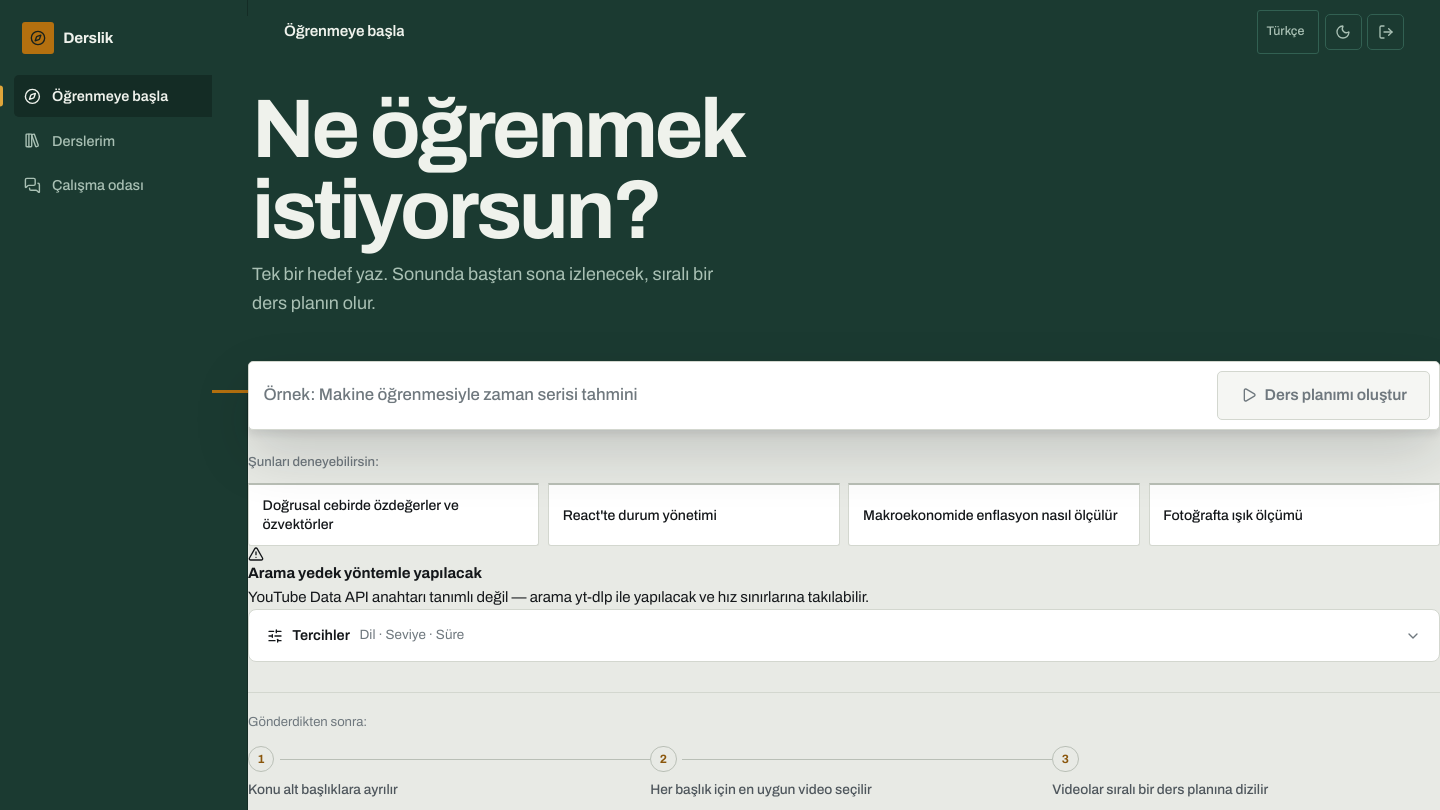
App › herhangi bir uctan 401 gelirse giris ekranina doner
Type "kuantum" into the field labelled "Ne öğrenmek istiyorsun?" at (736, 395), box left=263, top=374, right=1208, bottom=416
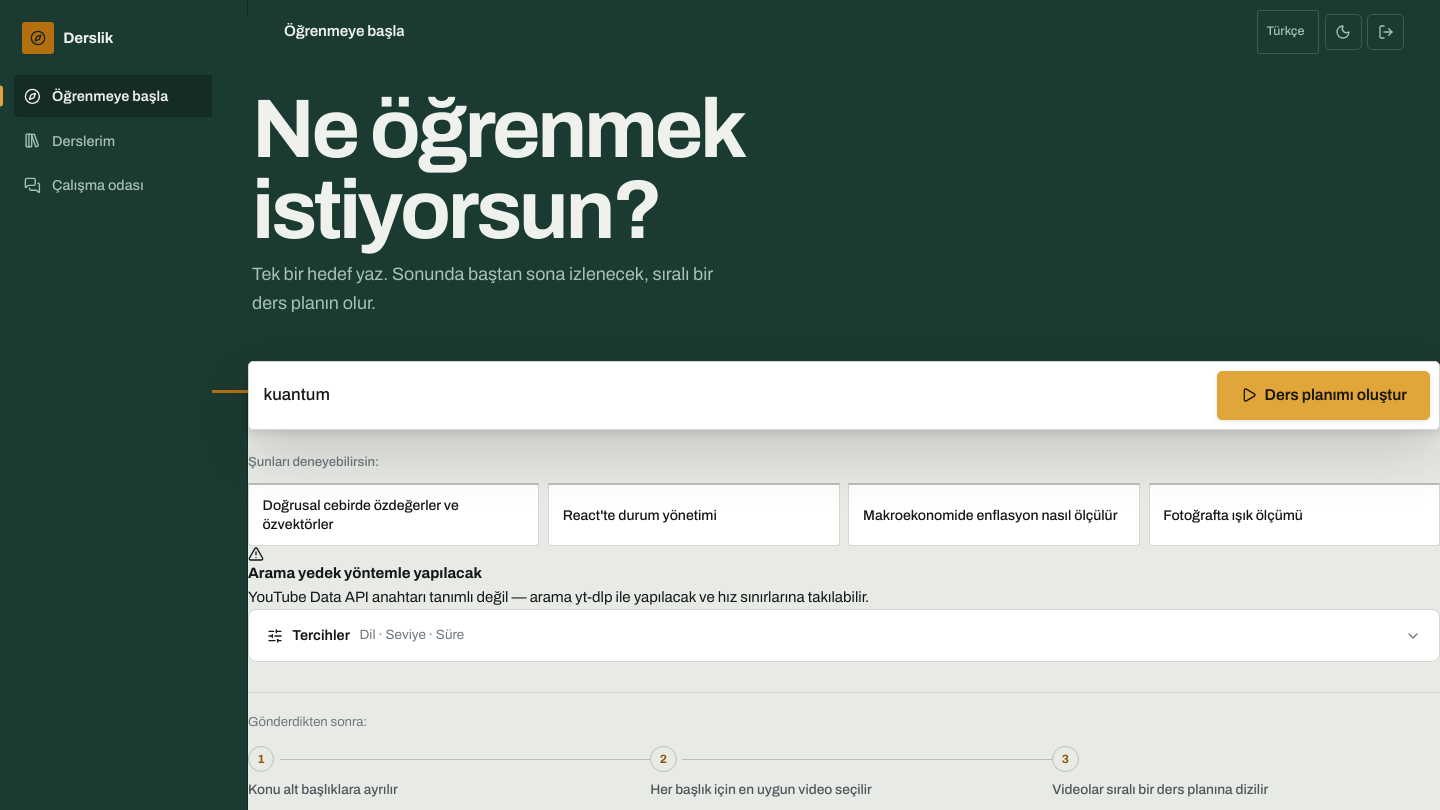
Click the button "Ders planımı oluştur" at (1324, 395), box left=1217, top=371, right=1430, bottom=420
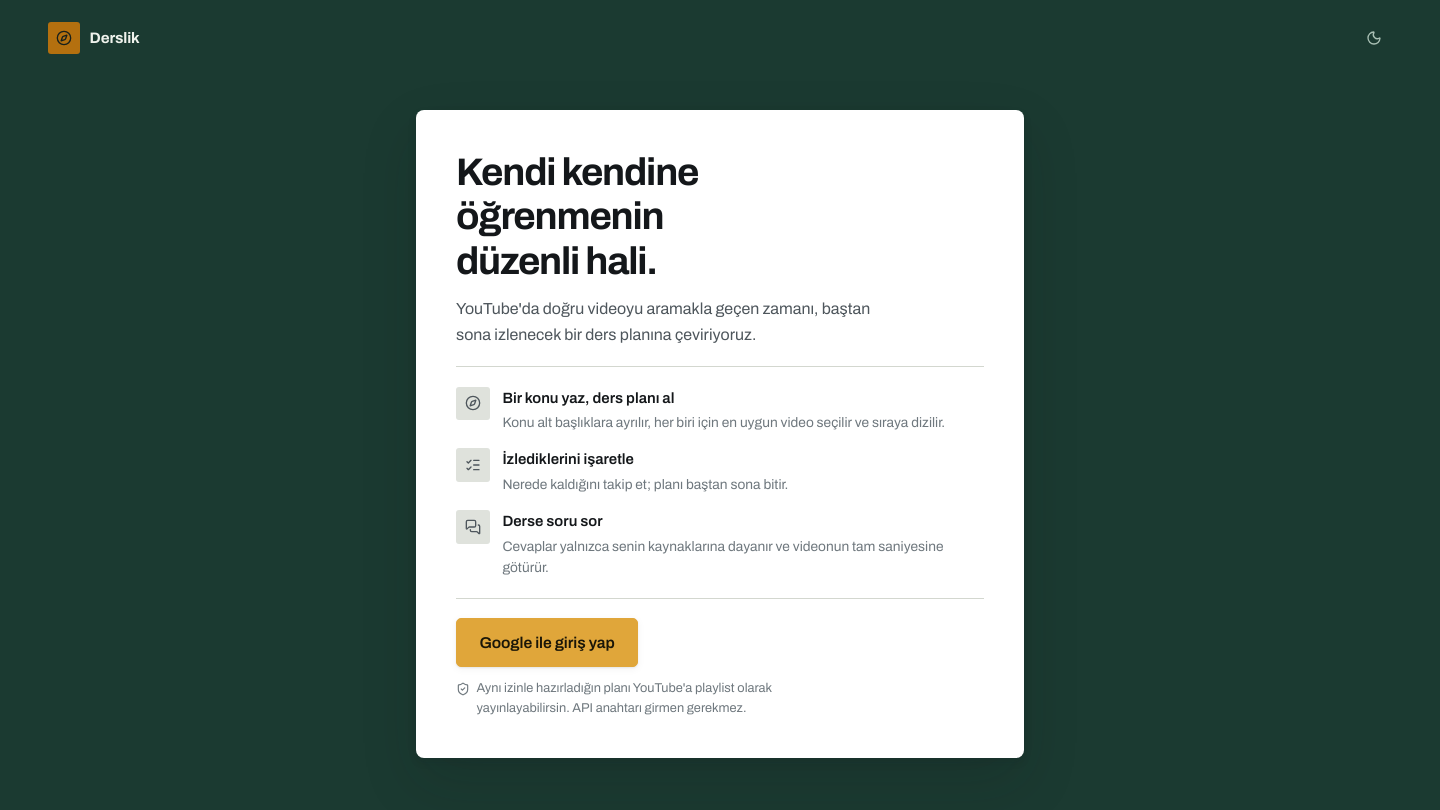
Check: the button "Google ile giriş yap" is shown, box left=456, top=618, right=638, bottom=668
